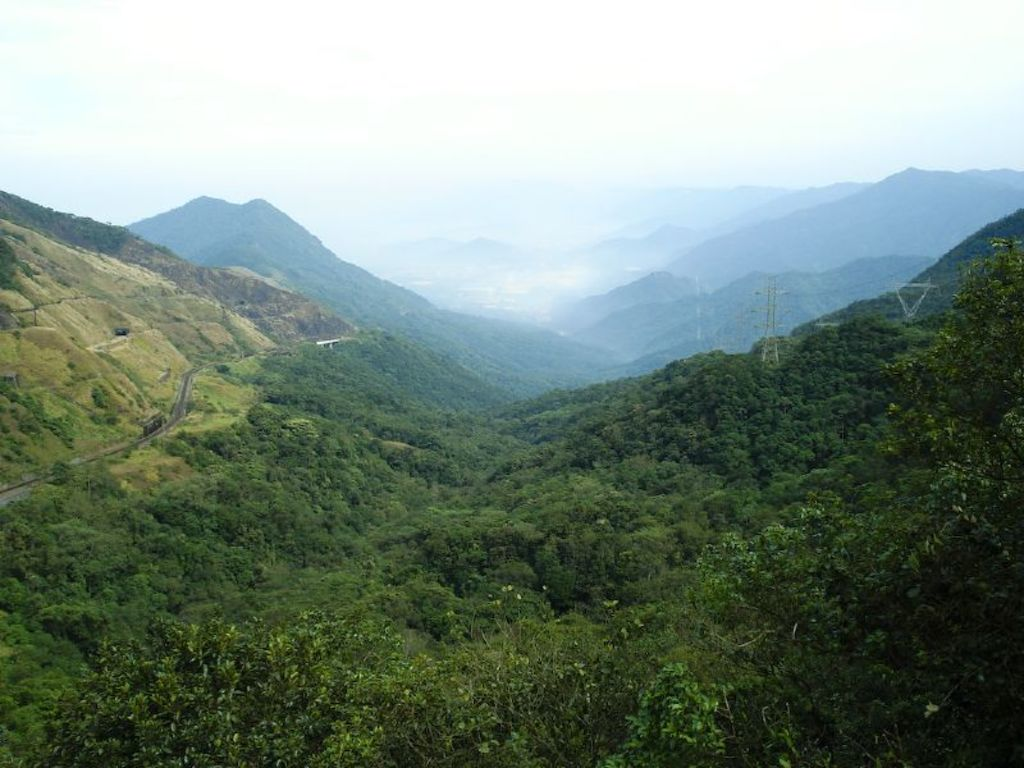Tree: (49, 462, 72, 486)
